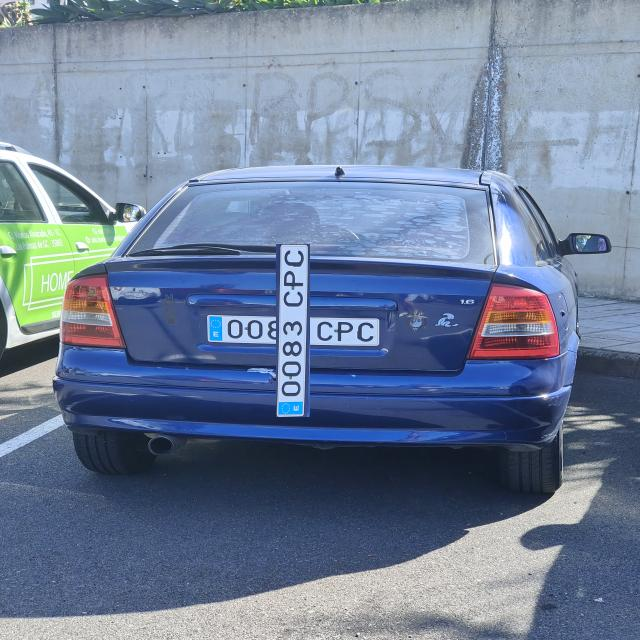License-Plate: (241, 278, 345, 382)
